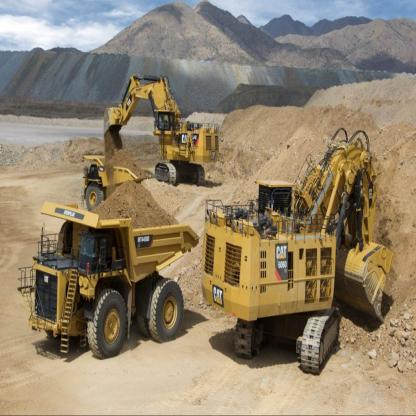dump_truck: (13, 172, 191, 343), (70, 137, 146, 212)
excavator: (198, 118, 406, 385), (95, 63, 223, 199)
